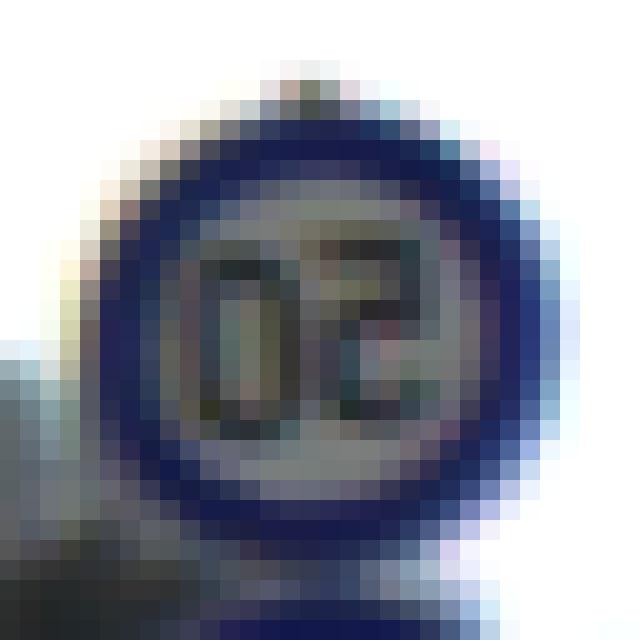SPEED LIMIT 50: (114, 152, 500, 546)
